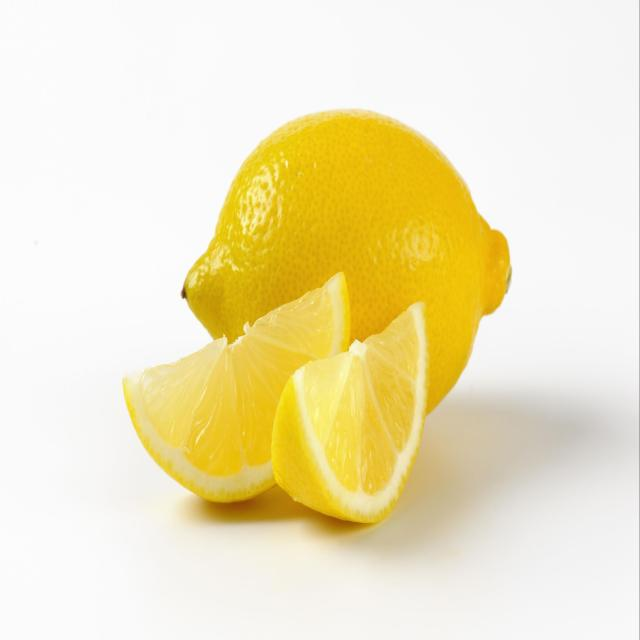lemon: (119, 266, 431, 530)
